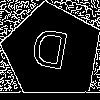D: (27, 28, 71, 80)
